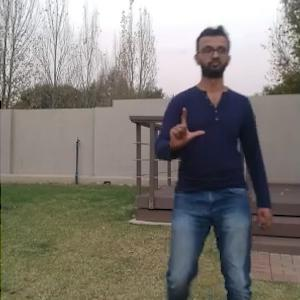land_hand: (161, 103, 208, 156)
